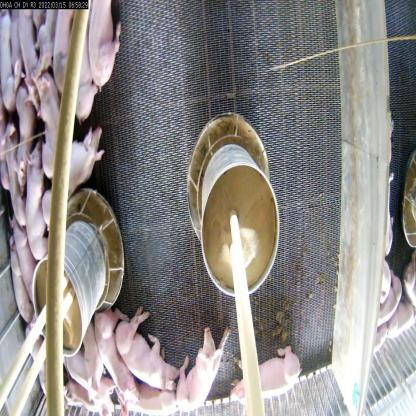Pig: (168, 317, 229, 416), (58, 15, 106, 136), (51, 128, 113, 221), (109, 310, 176, 386), (235, 339, 302, 415), (30, 65, 64, 190), (20, 131, 51, 262), (9, 206, 43, 319), (89, 310, 129, 402), (90, 0, 128, 93), (61, 336, 118, 396), (119, 381, 178, 415)
